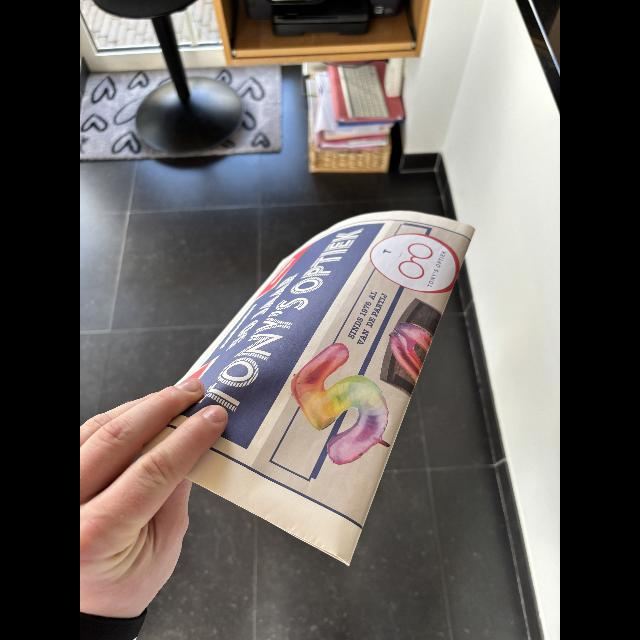Paper: (140, 210, 474, 564)
